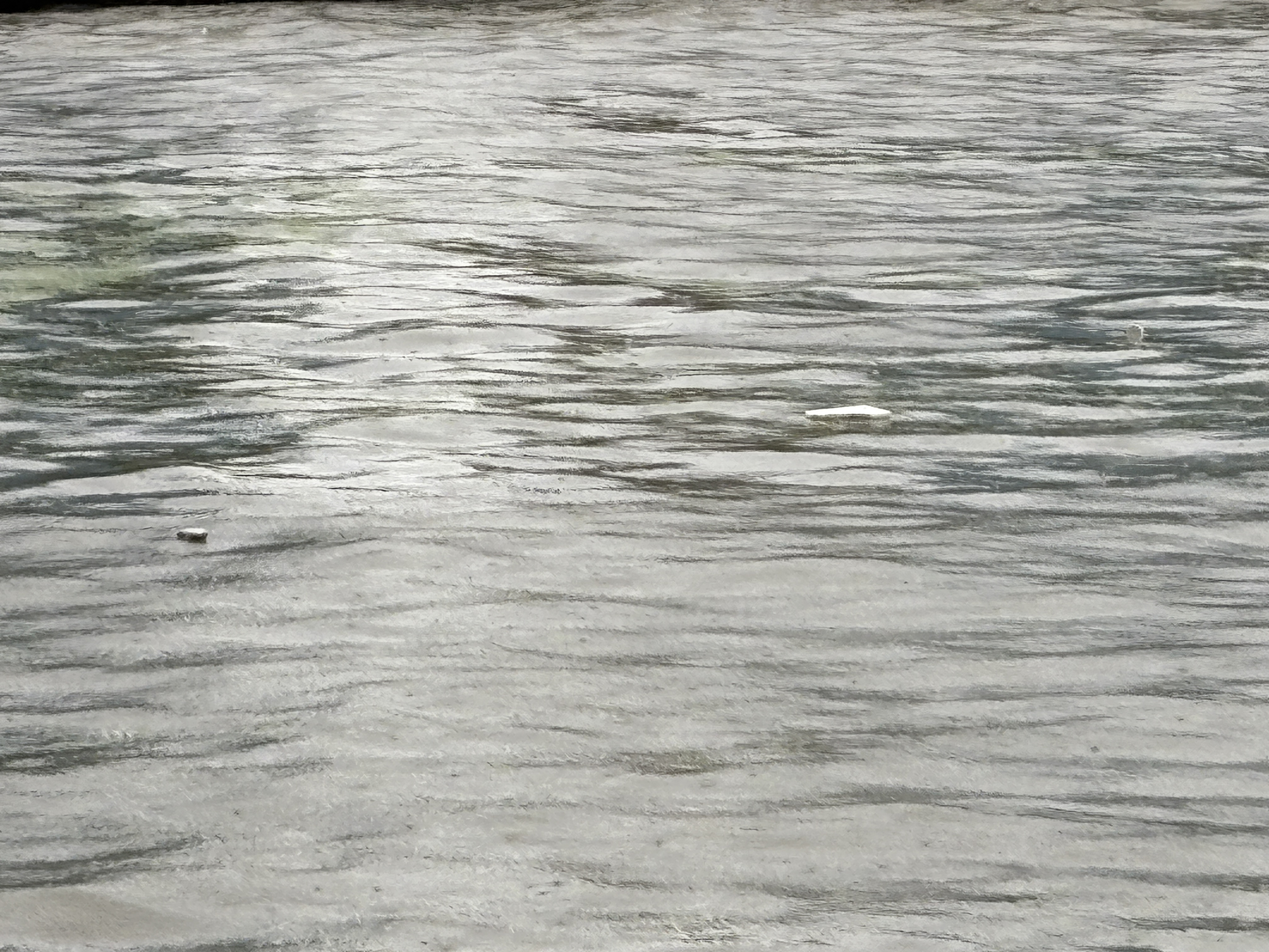Plastic wastes: (374, 517, 467, 547), (1062, 400, 1092, 422)
